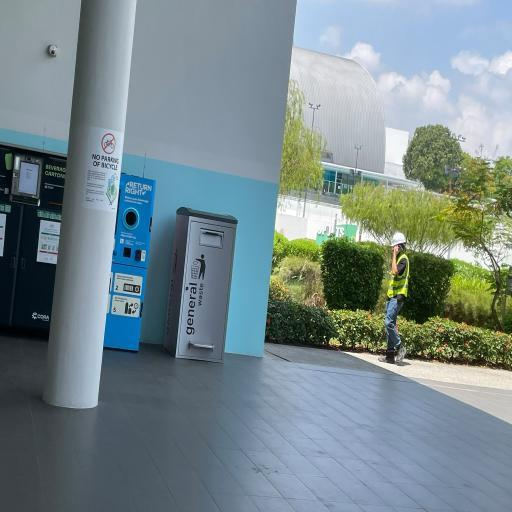person_left: (379, 232, 409, 363)
